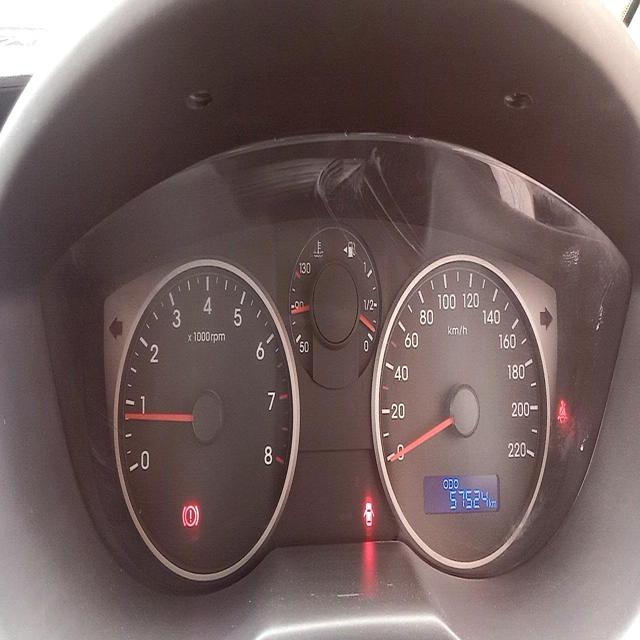odometer: (448, 487, 491, 515)
